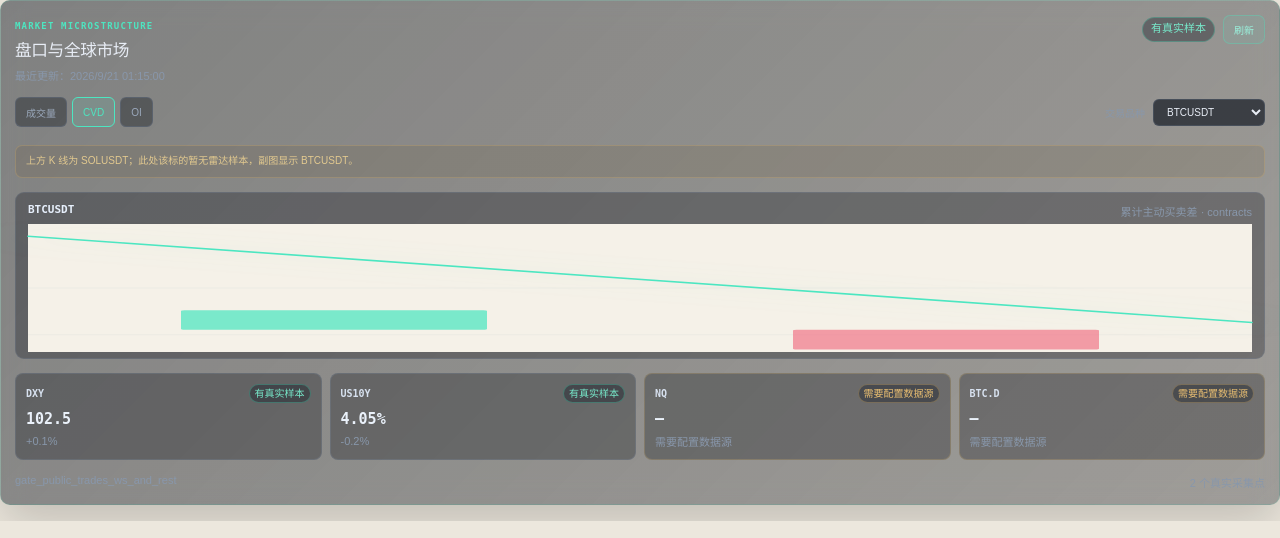
Scenario: MarketRadar › makes a missing preferred dashboard symbol visible and lets the radar select an available symbol
This screenshot has width=1280, height=538.
Expected: the text "上方 K 线为 SOLUSDT；此处该标的暂无雷达样本，副图显示 BTCUSDT。" is shown, [15,145,1265,178]
Select "ETHUSDT" in the dropdown named "选择交易品种" at (1209, 112), box [1153,98,1265,126]
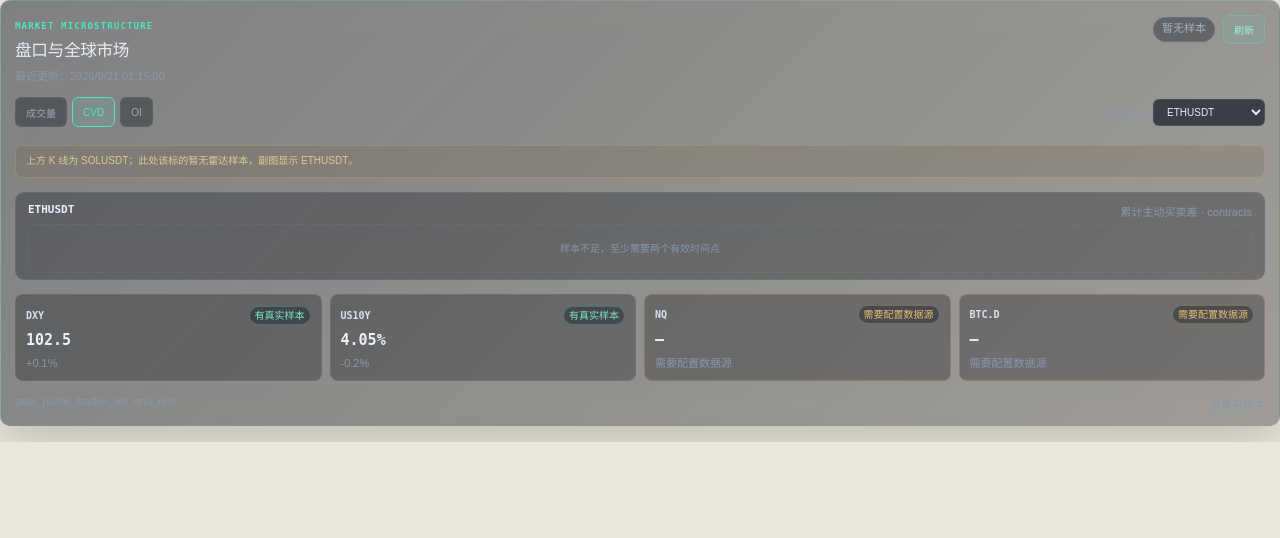
Expected: the text "ETHUSDT" is shown, [28,202,74,218]
